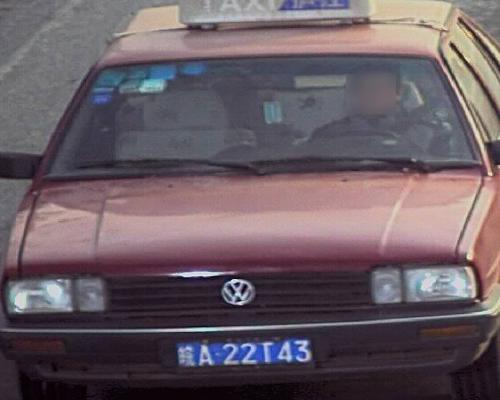Carplate: (168, 327, 322, 386)
